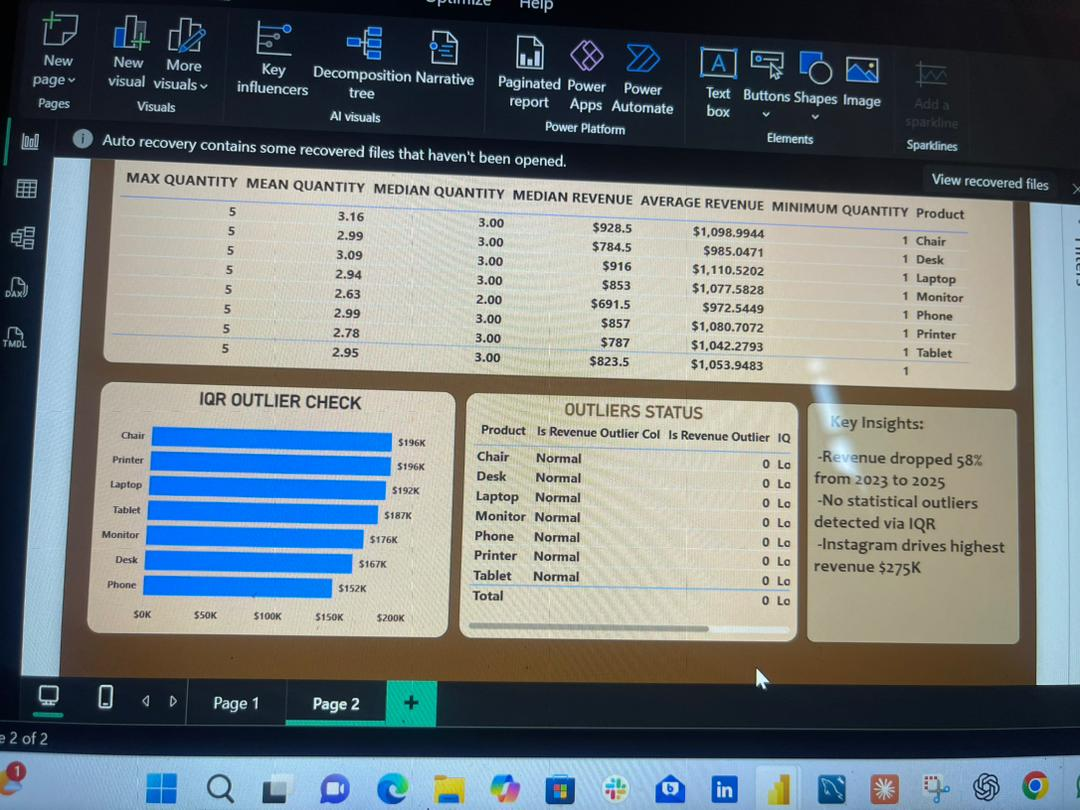

The dashboard page shown, as its layout file describes it:
{"tool":"powerbi","page":{"name":"Page 2","canvas":[1280,720],"ordinal":1},"visuals":[{"type":"tableEx","title":"DESCRIPTIVE STATISTICS","fields":{"Values":["Sheet1.MAX QUANTITY","Sheet1.MEAN QUANTITY","Sheet1.MEDIAN QUANTITY","Sheet1.MEDIAN REVENUE","Sheet1.AVERAGE REVENUE","Sheet1.MINIMUM QUANTITY","Sheet1.Product"]},"box":[31.5,18.2,1224.1,303.1],"z":0},{"type":"clusteredBarChart","title":"IQR OUTLIER CHECK","fields":{"Category":["Sheet1.Product"],"Y":["Sum(Sheet1.TotalPrice)"]},"box":[30.9,344.8,455.4,320.4],"z":1000},{"type":"tableEx","title":"OUTLIERS STATUS","fields":{"Values":["Sheet1.Product","Sheet1.Is Revenue Outlier Col","Sheet1.Is Revenue Outlier","Sheet1.IQR Bounds Revenue"]},"box":[499.3,344.8,448.9,320.4],"z":2000},{"type":"textbox","box":[959.7,344.8,296,320.4],"z":2001}]}

Visuals, with their boxes on the page's 1280x720 design canvas (x1, y1, x2, y2). These are canvas units, not pixel positions in the 1080x810 screenshot, which may show the page scaled, cropped or inside an application window:
"DESCRIPTIVE STATISTICS" tableEx: pyautogui.locateOnScreen(32, 18, 1256, 321)
"IQR OUTLIER CHECK" clusteredBarChart: pyautogui.locateOnScreen(31, 345, 486, 665)
"OUTLIERS STATUS" tableEx: pyautogui.locateOnScreen(499, 345, 948, 665)
textbox: pyautogui.locateOnScreen(960, 345, 1256, 665)
